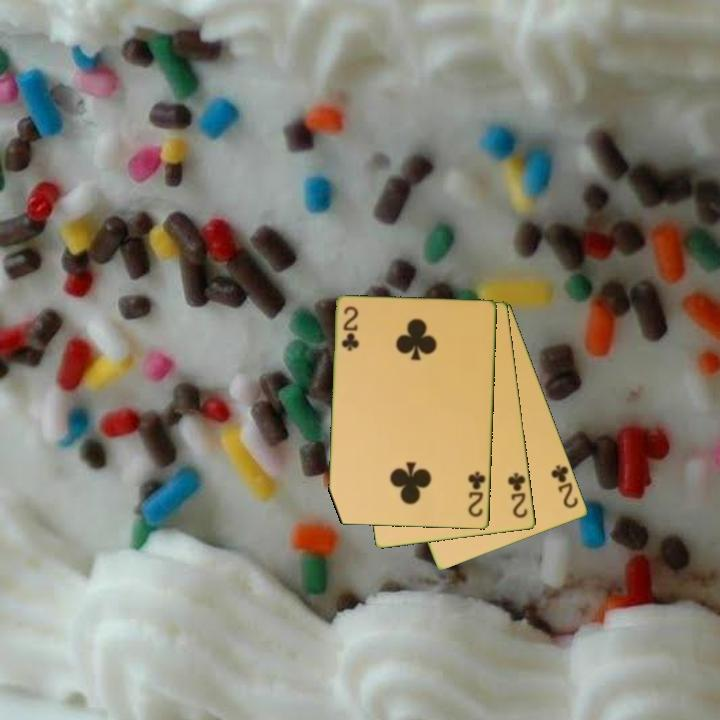2c: (548, 461, 581, 512), (505, 469, 531, 521), (465, 468, 489, 520), (338, 303, 361, 354)
